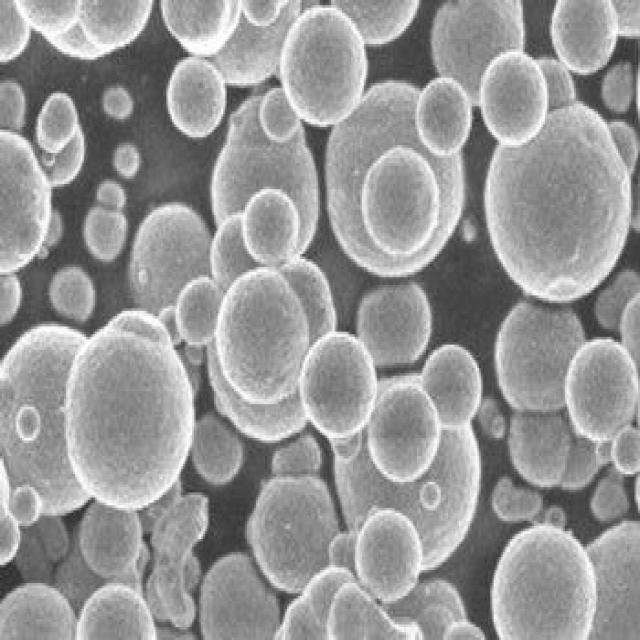cells: (482, 104, 633, 302), (335, 372, 484, 571), (325, 84, 466, 282), (64, 310, 195, 508), (2, 322, 115, 518), (210, 92, 319, 259), (218, 263, 309, 411), (492, 525, 596, 640), (494, 296, 592, 416), (278, 4, 368, 128), (126, 204, 217, 325), (249, 474, 341, 590), (361, 146, 438, 257), (0, 125, 53, 285), (434, 0, 523, 95), (17, 0, 154, 59), (152, 492, 210, 631), (300, 332, 378, 434), (565, 337, 640, 439), (366, 385, 442, 483), (200, 554, 280, 640), (479, 52, 549, 146), (356, 284, 432, 366), (355, 509, 421, 601), (79, 496, 144, 580), (550, 0, 620, 74), (167, 52, 228, 136), (508, 408, 572, 488), (421, 345, 483, 426), (77, 581, 155, 640), (241, 186, 299, 264), (0, 584, 78, 640), (161, 0, 242, 52), (417, 78, 472, 154), (192, 408, 244, 488), (335, 0, 421, 47), (174, 272, 223, 344), (83, 181, 128, 259), (47, 267, 97, 323), (32, 93, 78, 152), (258, 87, 302, 145), (493, 478, 544, 521), (590, 477, 630, 527), (270, 436, 321, 475), (1, 0, 30, 66), (602, 65, 636, 116), (101, 84, 135, 120), (1, 271, 22, 326), (12, 488, 42, 525), (242, 0, 284, 26), (114, 143, 141, 180), (16, 406, 41, 441), (422, 479, 441, 509)
